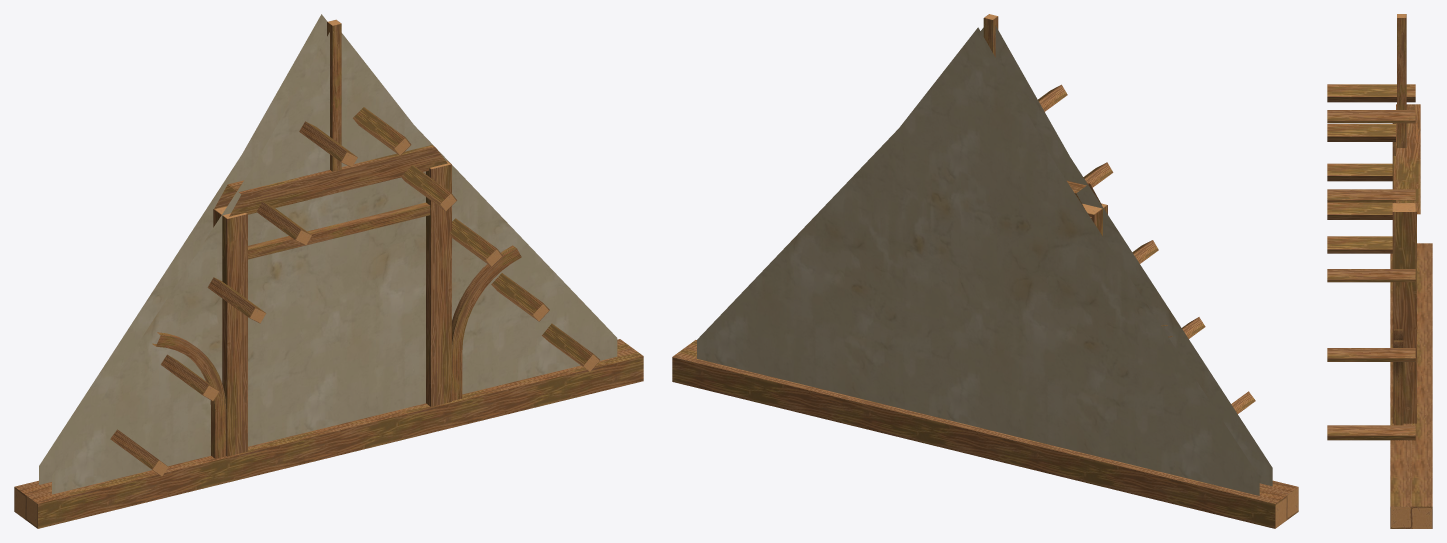
File: Roof_Front_Brick6.glb
3 renders of one model, left to right at view 1: azimuth 30°, elevation 25°; view 2: azimuth 150°, elevation 25°; view 3: azimuth 270°, elevation 25°, orthographic. The views are drawn at different scales.
Parts seen in each view (by area): view 1: Roof_Front_Brick6; view 2: Roof_Front_Brick6; view 3: Roof_Front_Brick6.
Boxes of the visible parts, left/top/right/bottom form: Roof_Front_Brick6: left=14, top=14, right=643, bottom=528; Roof_Front_Brick6: left=672, top=14, right=1298, bottom=528; Roof_Front_Brick6: left=1327, top=14, right=1432, bottom=528.
Size of the model in its own units: 6.69 by 4.52 by 1.13.
2 materials, 2 textured.
